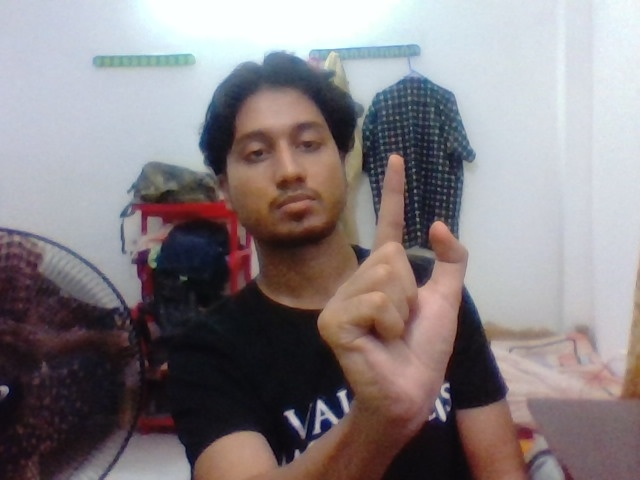J: (343, 134, 479, 347)
